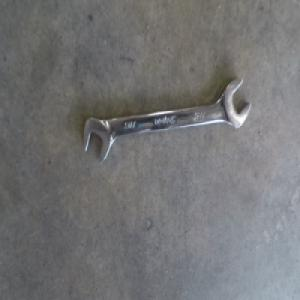Wrench: (85, 77, 249, 162)
